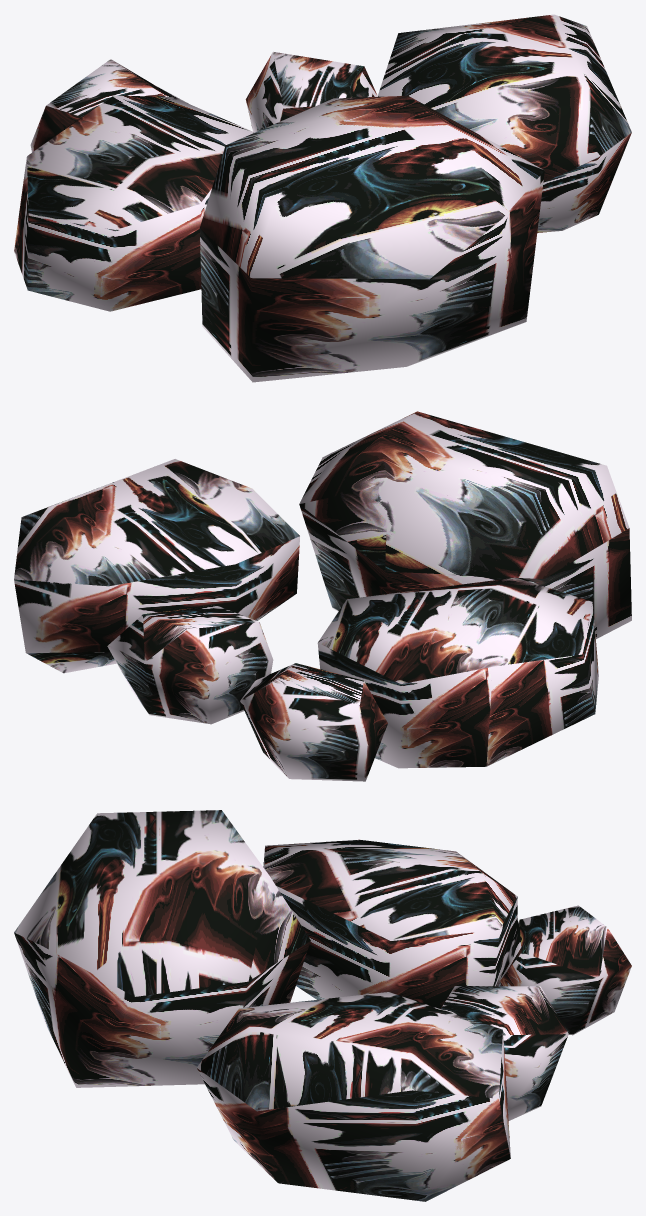
The model's file is SM_Carbon_T1.fbx.
3 renders of one model, top to bottom at view 1: azimuth 30°, elevation 25°; view 2: azimuth 150°, elevation 25°; view 3: azimuth 270°, elevation 25°, orthographic. The views are drawn at different scales.
Visible parts, largest first — view 1: Mesh_0209; view 2: Mesh_0209; view 3: Mesh_0209.
Part boxes in pixels (box(x1,y1,x2,y2)): Mesh_0209: box(14, 14, 631, 382); Mesh_0209: box(14, 411, 631, 781); Mesh_0209: box(14, 810, 631, 1201).
Size of the model in its own units: 1930 by 1799 by 657.
